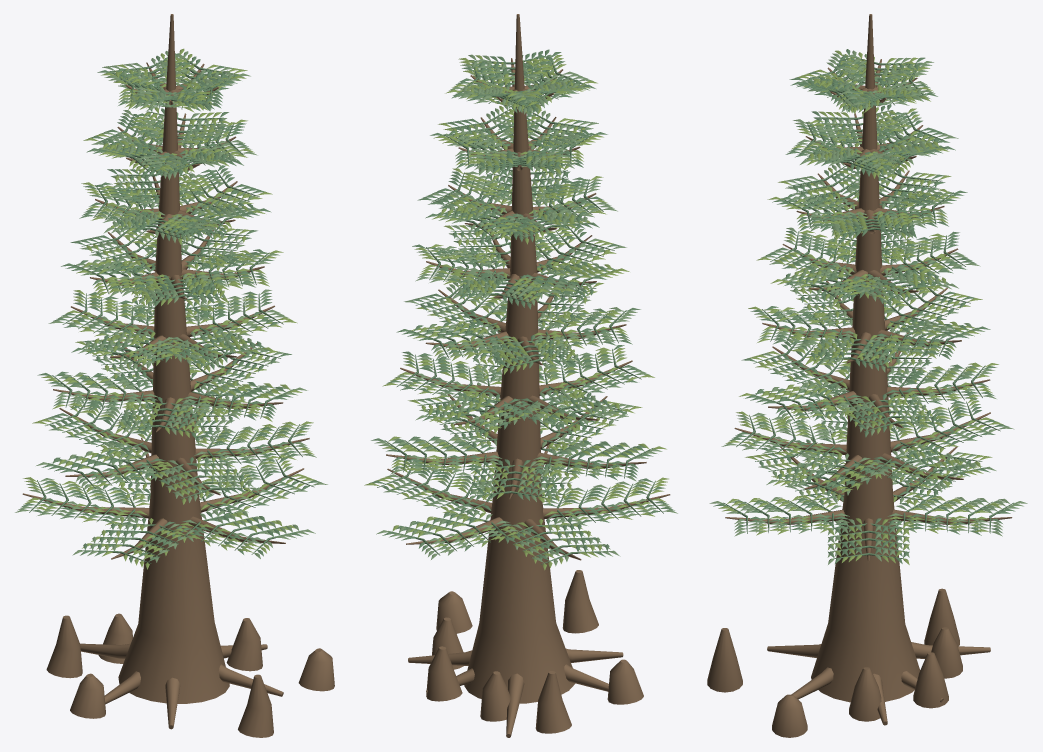
File: 074_wetland_cypress_knee_roots.glb
3 renders of one model, left to right at view 1: azimuth 30°, elevation 25°; view 2: azimuth 150°, elevation 25°; view 3: azimuth 270°, elevation 25°, orthographic.
Parts seen in each view (by area): view 1: Cypress_feather_leaflets, Cypress_flared_trunk, TRE-074_twigs, TRE-074_boughs, TRE-074_knee_roots, TRE-074_roots; view 2: Cypress_feather_leaflets, Cypress_flared_trunk, TRE-074_twigs, TRE-074_knee_roots, TRE-074_boughs, TRE-074_roots; view 3: Cypress_feather_leaflets, Cypress_flared_trunk, TRE-074_twigs, TRE-074_boughs, TRE-074_knee_roots, TRE-074_roots.
Boxes of the visible parts, box(x1,y1,x2,y2) form: Cypress_feather_leaflets: box(15, 48, 327, 569); Cypress_flared_trunk: box(118, 14, 229, 703); TRE-074_twigs: box(29, 58, 314, 563); TRE-074_boughs: box(22, 62, 309, 559); TRE-074_knee_roots: box(46, 613, 334, 737); TRE-074_roots: box(80, 643, 283, 729); Cypress_feather_leaflets: box(364, 49, 677, 570); Cypress_flared_trunk: box(464, 14, 575, 703); TRE-074_twigs: box(377, 56, 663, 564); TRE-074_knee_roots: box(426, 570, 643, 733); TRE-074_boughs: box(386, 58, 670, 560); TRE-074_roots: box(408, 648, 623, 737); Cypress_feather_leaflets: box(709, 49, 1027, 564); Cypress_flared_trunk: box(811, 14, 920, 702); TRE-074_twigs: box(723, 55, 1013, 559); TRE-074_boughs: box(725, 59, 1012, 562); TRE-074_knee_roots: box(707, 588, 962, 737); TRE-074_roots: box(767, 642, 990, 725).
Bounding box in the file's own units: 3 × 7.23 × 3.17.
